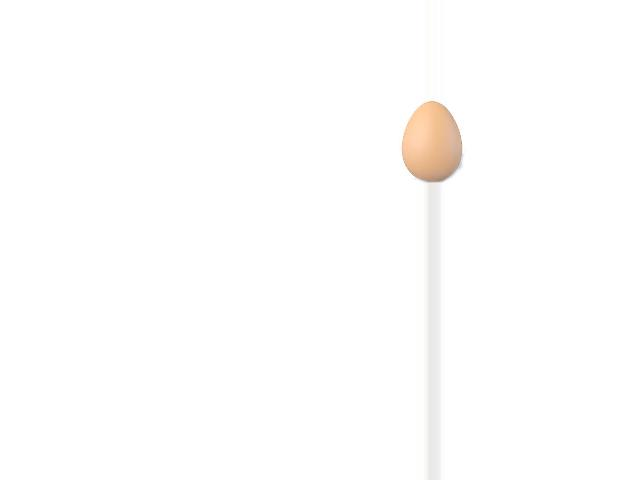egg: (402, 102, 462, 182)
